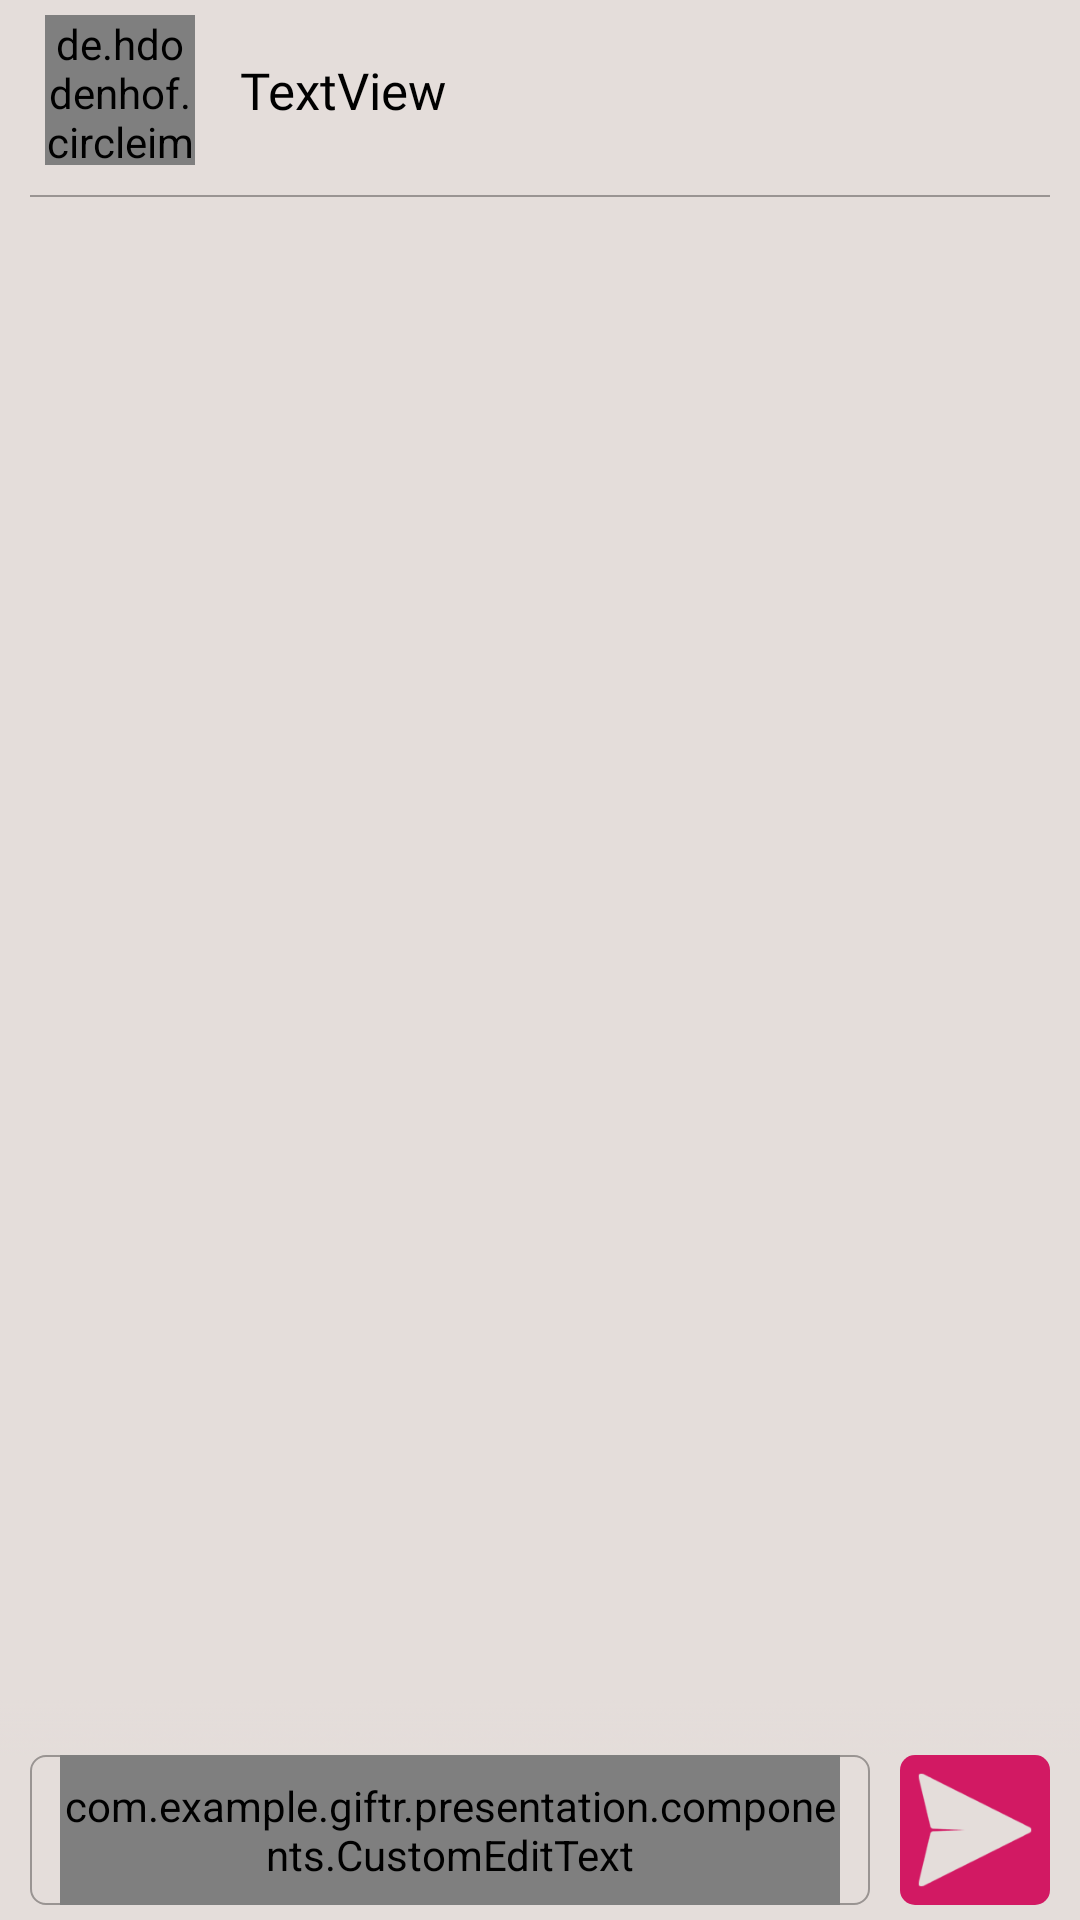

Screen size 1080×1920. Icon name, then its box in pixels as (left=x1, top=y1, right=x2, bottom=y2):
send: (left=900, top=1755, right=1050, bottom=1905)
